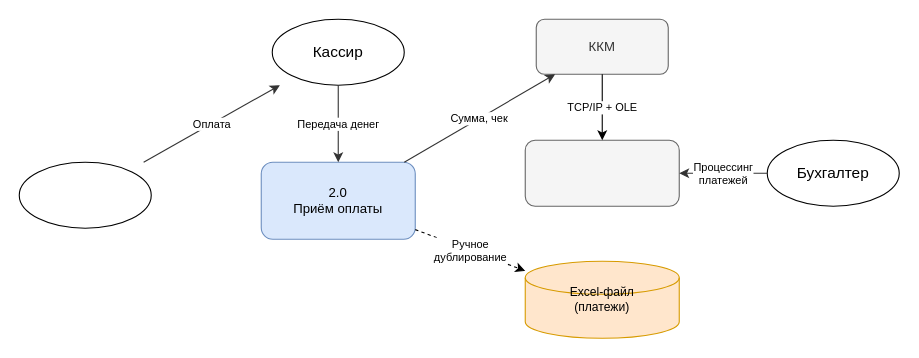
Image size: 919x358. Some labels were removed from this diagram. Here are the shapes that lost their labels. From the top down, the box of each, then its label:
(524, 139, 679, 206): 1С:Бухгалтерия предприятия
(18, 161, 151, 228): Пациент
